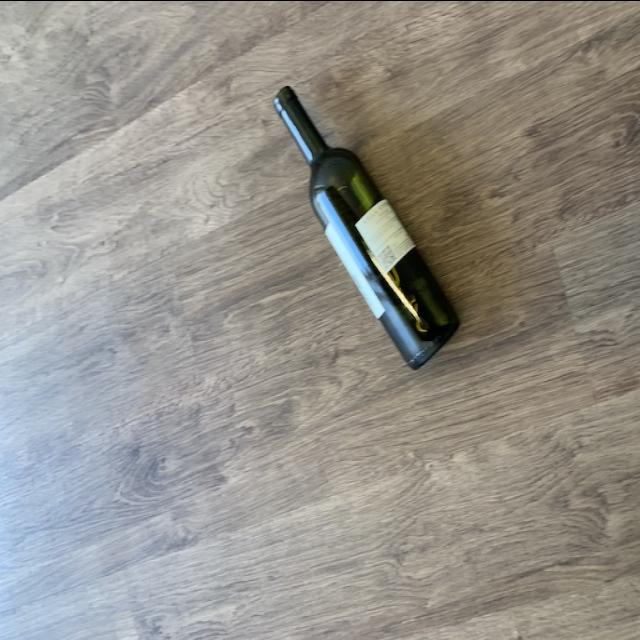litter: (274, 82, 464, 372)
